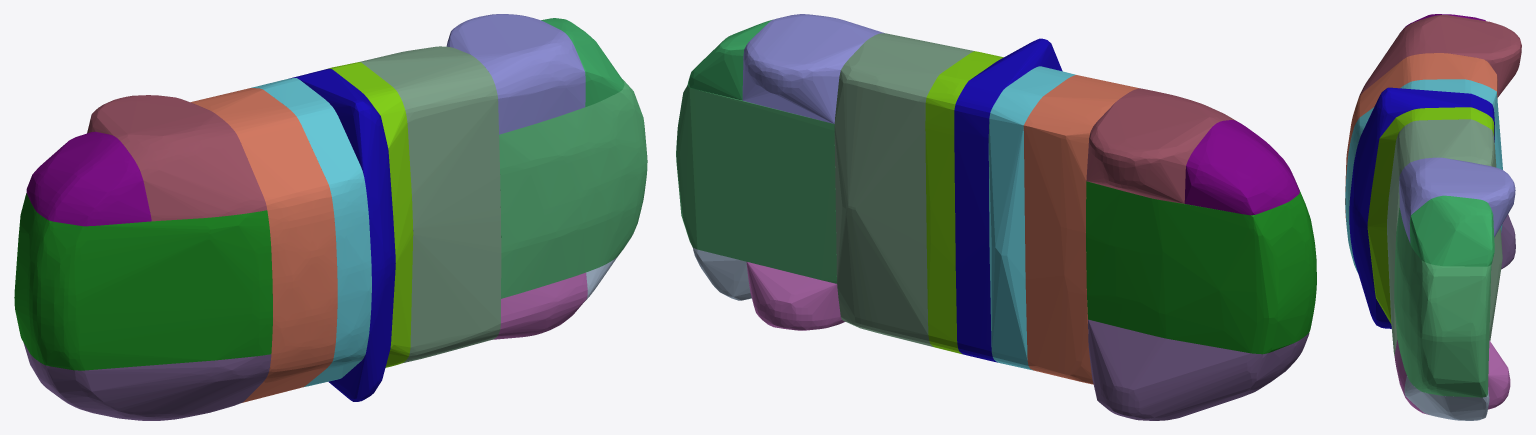
File: coacd_collision.obj
3 views of the same model, side by side, from view 1: azimuth 30°, elevation 25°; view 2: azimuth 150°, elevation 25°; view 3: azimuth 270°, elevation 25° (orthographic). The views are drawn at different scales.
Parts seen in each view (by area): view 1: geometry_8, geometry_0, geometry_3, geometry_9, geometry_13, geometry_2, geometry_1, geometry_12, geometry_5, geometry_11, geometry_4, geometry_7 (+1 smaller); view 2: geometry_8, geometry_0, geometry_3, geometry_9, geometry_1, geometry_5, geometry_2, geometry_13, geometry_12, geometry_4, geometry_11, geometry_7 (+2 smaller); view 3: geometry_3, geometry_5, geometry_0, geometry_13, geometry_10, geometry_12, geometry_4, geometry_9, geometry_2, geometry_6, geometry_7, geometry_1.
Boxes of the visible parts, x1,y1,x2,y2 form: geometry_8: (14, 193, 272, 370); geometry_0: (359, 46, 501, 363); geometry_3: (499, 79, 647, 298); geometry_9: (190, 88, 337, 402); geometry_13: (87, 95, 267, 221); geometry_2: (251, 78, 371, 387); geometry_1: (23, 342, 271, 420); geometry_12: (446, 14, 585, 134); geometry_5: (289, 68, 395, 401); geometry_11: (26, 131, 151, 226); geometry_4: (326, 62, 413, 367); geometry_7: (492, 272, 587, 339); geometry_8: (1086, 181, 1316, 354); geometry_0: (834, 33, 974, 346); geometry_3: (676, 85, 836, 283); geometry_9: (1023, 75, 1138, 384); geometry_1: (1088, 319, 1309, 420); geometry_5: (954, 38, 1062, 362); geometry_2: (988, 66, 1075, 370); geometry_13: (1086, 88, 1235, 203); geometry_12: (742, 14, 884, 123); geometry_4: (925, 51, 1003, 354); geometry_11: (1184, 120, 1299, 215); geometry_7: (746, 261, 845, 330); geometry_3: (1394, 208, 1491, 397); geometry_5: (1349, 87, 1494, 328); geometry_0: (1387, 119, 1502, 355); geometry_13: (1358, 15, 1521, 97); geometry_10: (1409, 195, 1494, 266); geometry_12: (1399, 157, 1515, 242); geometry_4: (1367, 107, 1494, 323); geometry_9: (1345, 53, 1497, 221); geometry_2: (1345, 79, 1502, 273); geometry_6: (1404, 376, 1489, 420); geometry_7: (1394, 340, 1510, 414); geometry_1: (1501, 214, 1515, 269).
Size of the model in its own units: 123 by 56.58 by 37.82.
